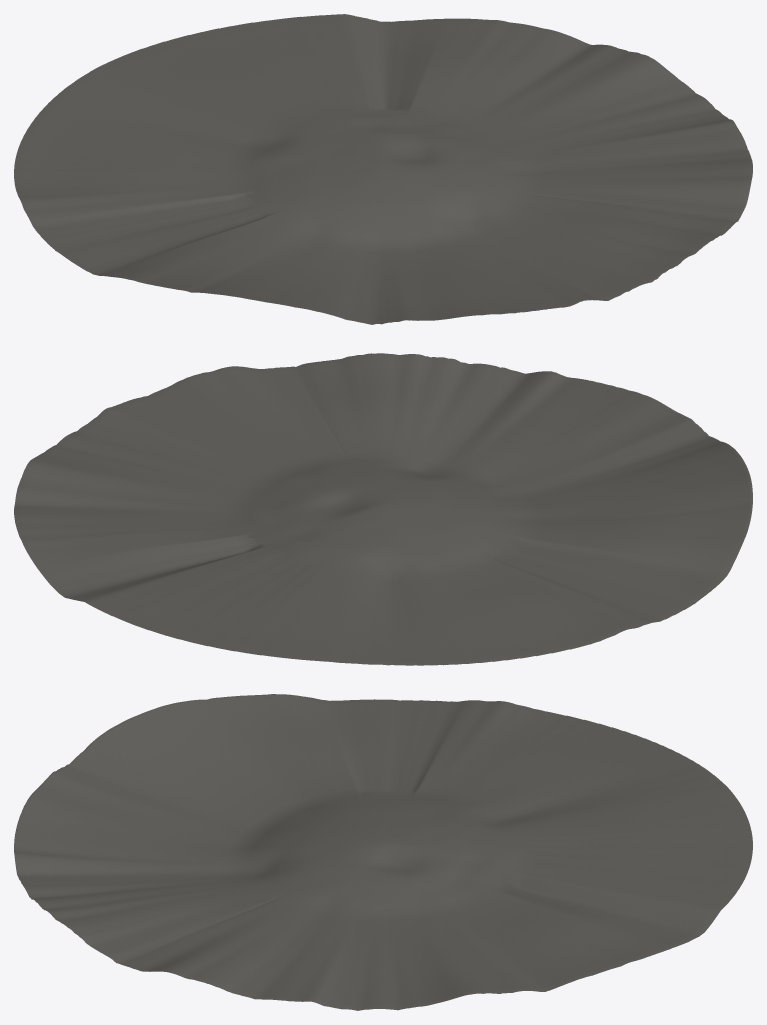
Rendered from terrain_sl3.glb.
3 views of the same model, one above another, from view 1: azimuth 30°, elevation 25°; view 2: azimuth 150°, elevation 25°; view 3: azimuth 270°, elevation 25° (orthographic).
Parts seen in each view (by area): view 1: SkylineRing, Terrain; view 2: SkylineRing, Terrain; view 3: SkylineRing, Terrain.
Boxes of the visible parts, <box> form: SkylineRing: <box>14,14,752,324</box>; Terrain: <box>245,108,516,238</box>; SkylineRing: <box>14,353,752,665</box>; Terrain: <box>248,460,517,569</box>; SkylineRing: <box>14,694,752,1010</box>; Terrain: <box>250,792,526,909</box>.
Bounding box in the file's own units: 3000 × 147 × 3000.
Materials: 1 (1 with a texture image).
